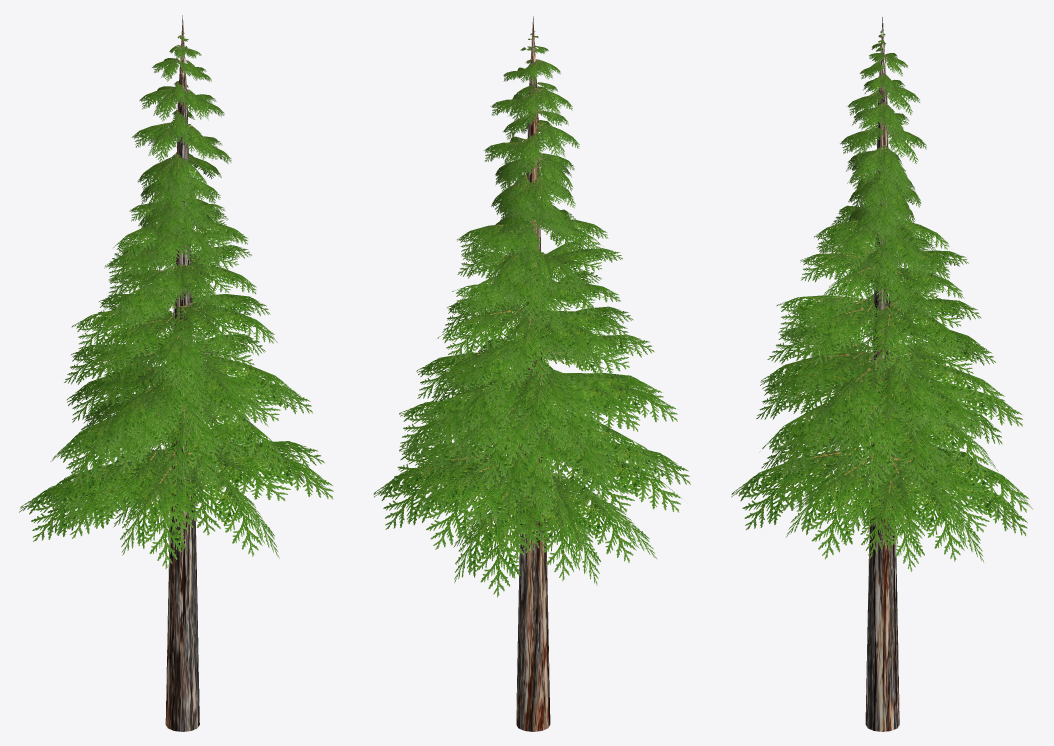
File: tree-three.glb
3 views of the same model, side by side, from view 1: azimuth 30°, elevation 25°; view 2: azimuth 150°, elevation 25°; view 3: azimuth 270°, elevation 25° (orthographic).
Visible parts, largest first — view 1: pPlane145_Branch_0, pPlane145_lambert5_0; view 2: pPlane145_Branch_0, pPlane145_lambert5_0; view 3: pPlane145_Branch_0, pPlane145_lambert5_0.
Part boxes in pixels (x1=…): pPlane145_Branch_0: x1=19, y1=32, x2=333, y2=569; pPlane145_lambert5_0: x1=165, y1=15, x2=199, y2=731; pPlane145_Branch_0: x1=373, y1=31, x2=690, y2=597; pPlane145_lambert5_0: x1=516, y1=16, x2=550, y2=731; pPlane145_Branch_0: x1=731, y1=31, x2=1032, y2=572; pPlane145_lambert5_0: x1=865, y1=17, x2=899, y2=731.
Bounding box in the file's own units: 195 × 459 × 183.
Materials: 2 (2 with a texture image).
